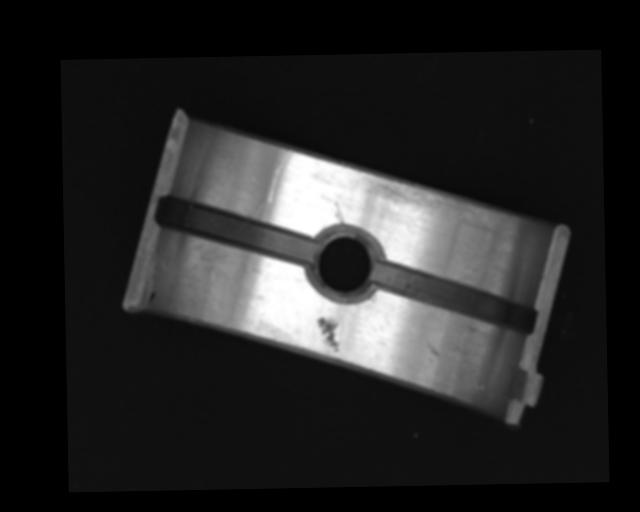blot: (146, 290, 156, 305)
bruise: (316, 315, 340, 353), (425, 342, 440, 363), (474, 383, 487, 392)
gap: (372, 255, 538, 336), (156, 192, 317, 270)
hole: (307, 227, 381, 301)
nick: (265, 149, 294, 204), (334, 200, 344, 224)
scratch: (364, 157, 520, 239)
